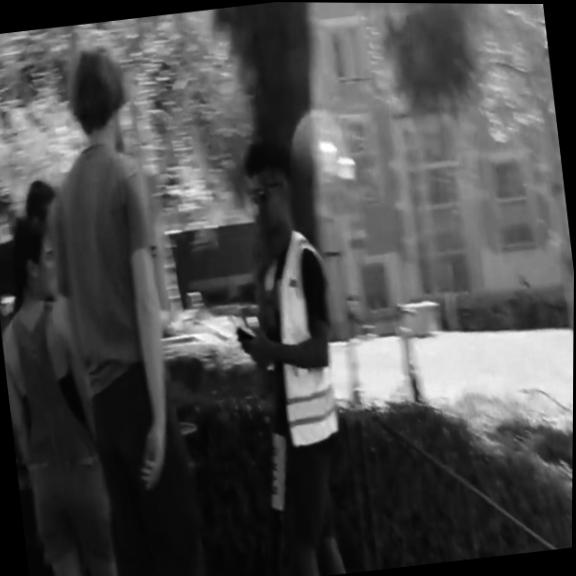safety_vest: (262, 223, 347, 452)
